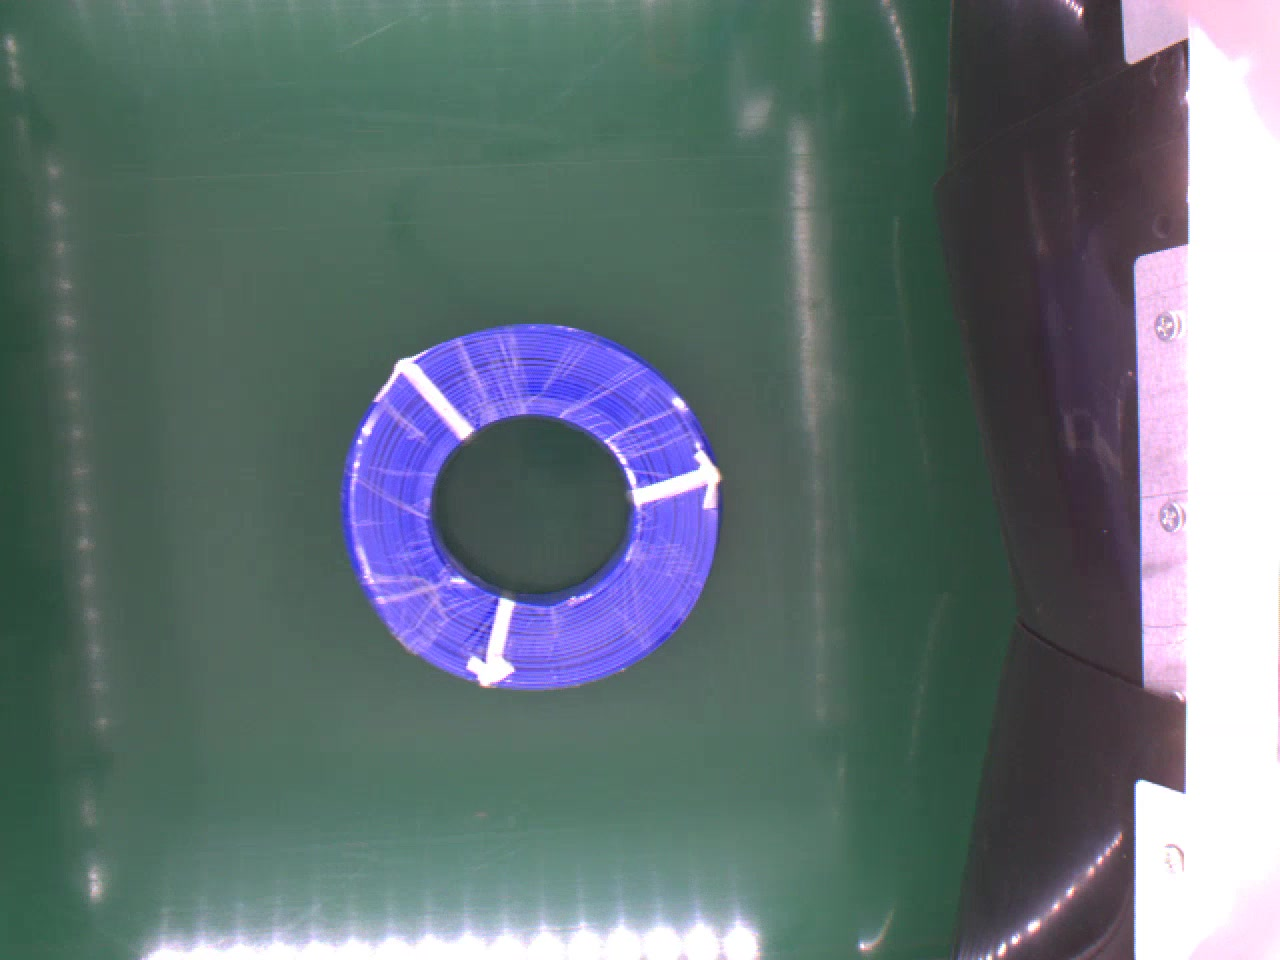blue: (332, 318, 720, 700)
